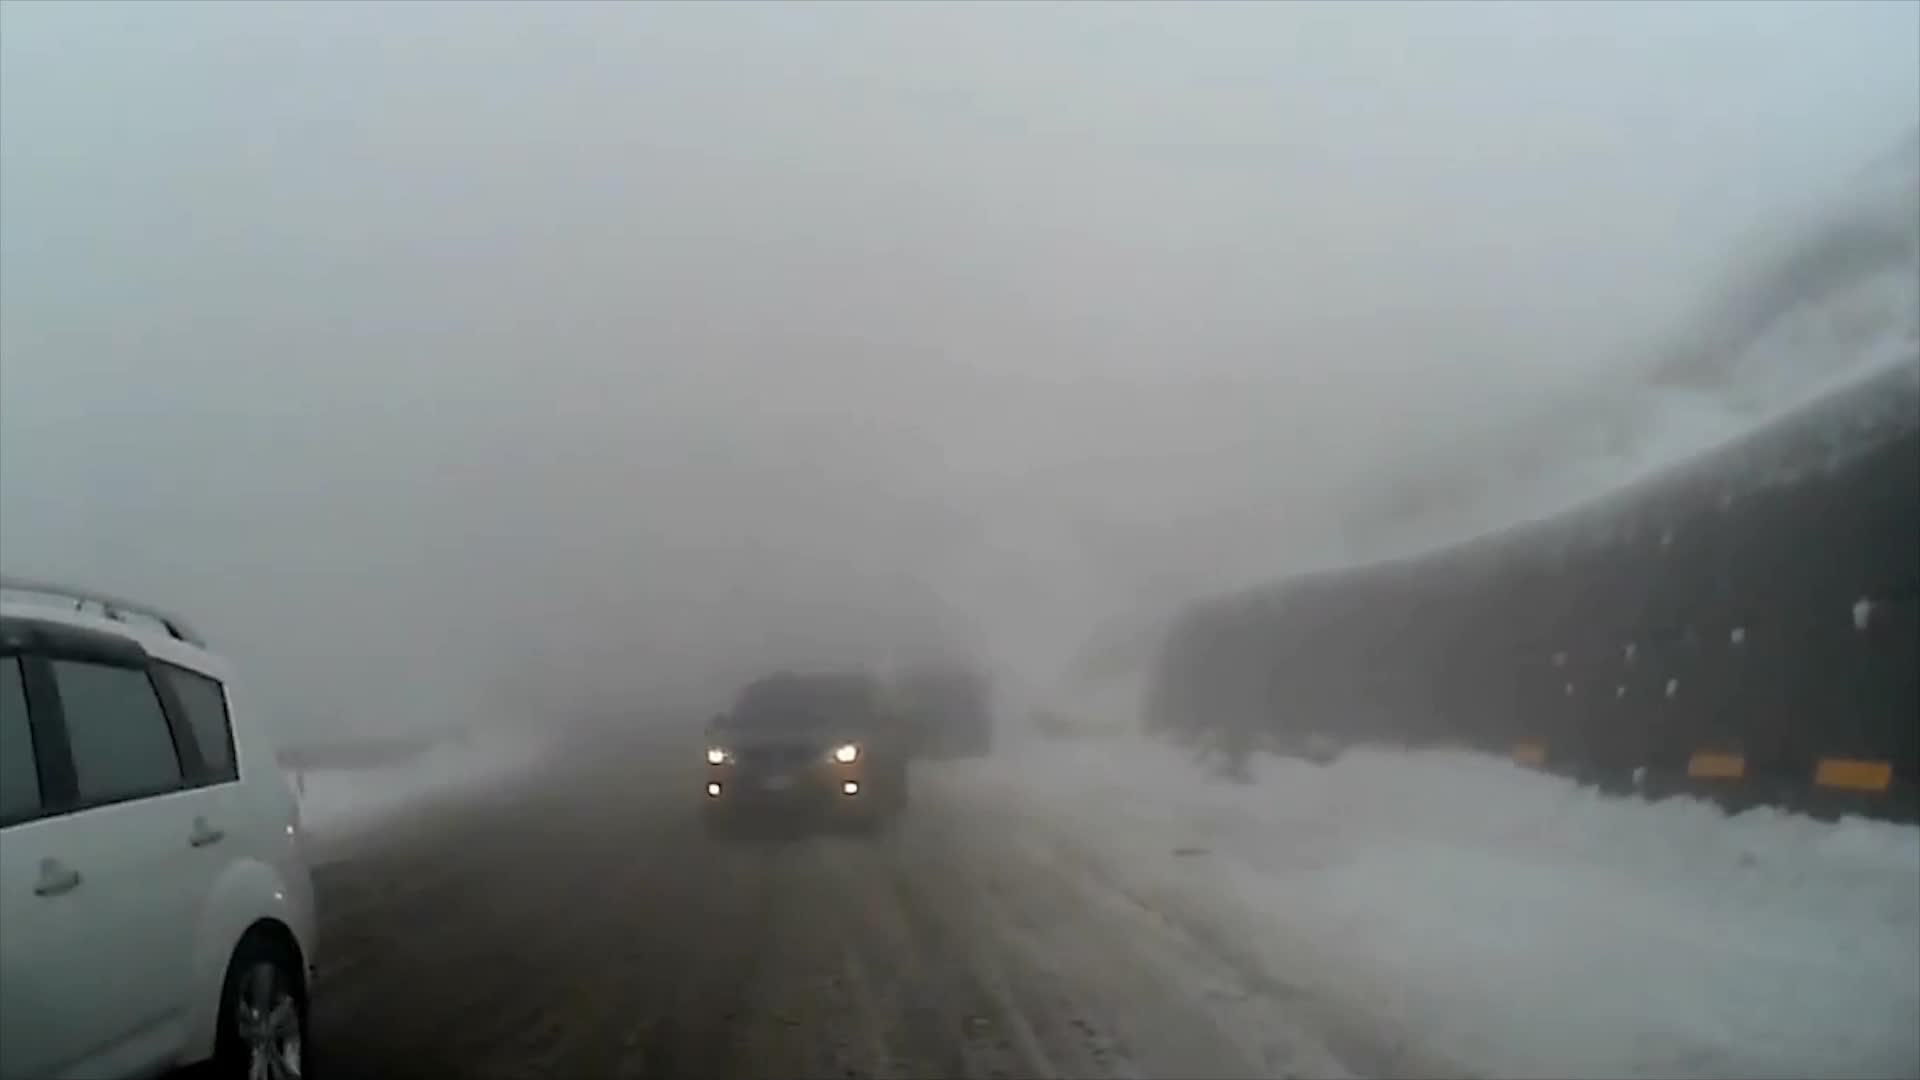vehicle: (0, 582, 322, 1080), (698, 665, 910, 837)
